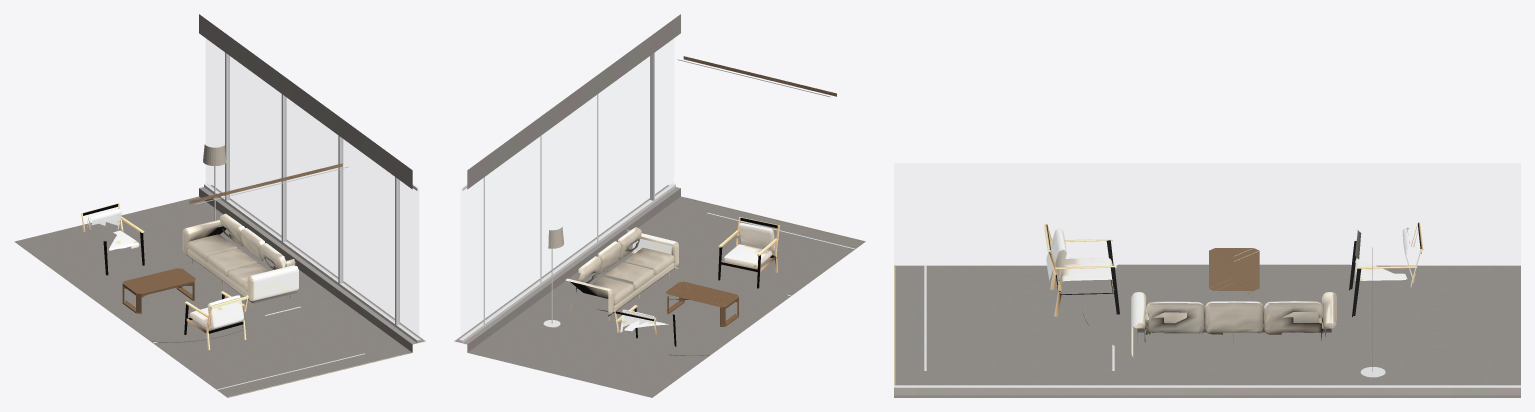
Rendered from z-final-lite.full.1ca74b5a.glb.
3 renders of one model, left to right at view 1: azimuth 30°, elevation 25°; view 2: azimuth 150°, elevation 25°; view 3: azimuth 270°, elevation 25°, orthographic. The views are drawn at different scales.
Visible parts, largest first — view 1: final_carpet, final_fx, final_plaster, final_satin, final_modern_coffee_table_01, final_emit, final_oak; view 2: final_carpet, final_fx, final_plaster, final_satin, final_modern_coffee_table_01, final_oak, final_emit; view 3: final_carpet, final_fx, final_plaster, final_satin, final_modern_coffee_table_01.
Boxes of the visible parts, x1,y1,x2,y2 form: final_carpet: [14, 196, 412, 397]; final_fx: [81, 203, 298, 350]; final_plaster: [199, 14, 425, 352]; final_satin: [153, 52, 420, 389]; final_modern_coffee_table_01: [122, 268, 195, 313]; final_emit: [195, 144, 348, 204]; final_oak: [189, 163, 342, 203]; final_carpet: [467, 196, 864, 397]; final_fx: [565, 217, 779, 346]; final_plaster: [454, 14, 680, 352]; final_satin: [459, 52, 855, 342]; final_modern_coffee_table_01: [666, 281, 738, 326]; final_oak: [683, 56, 836, 96]; final_emit: [548, 59, 830, 248]; final_carpet: [894, 264, 1520, 397]; final_fx: [1044, 222, 1423, 363]; final_plaster: [894, 387, 1520, 395]; final_satin: [894, 247, 1520, 387]; final_modern_coffee_table_01: [1209, 248, 1259, 293].
Bounding box in the file's own units: 3.75 × 3.3 × 7.
Materials: 9 (4 with a texture image).
